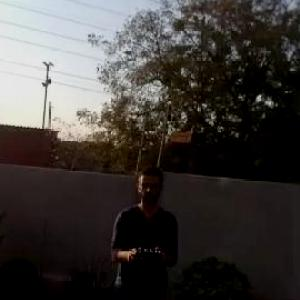follow: (107, 158, 181, 299)
